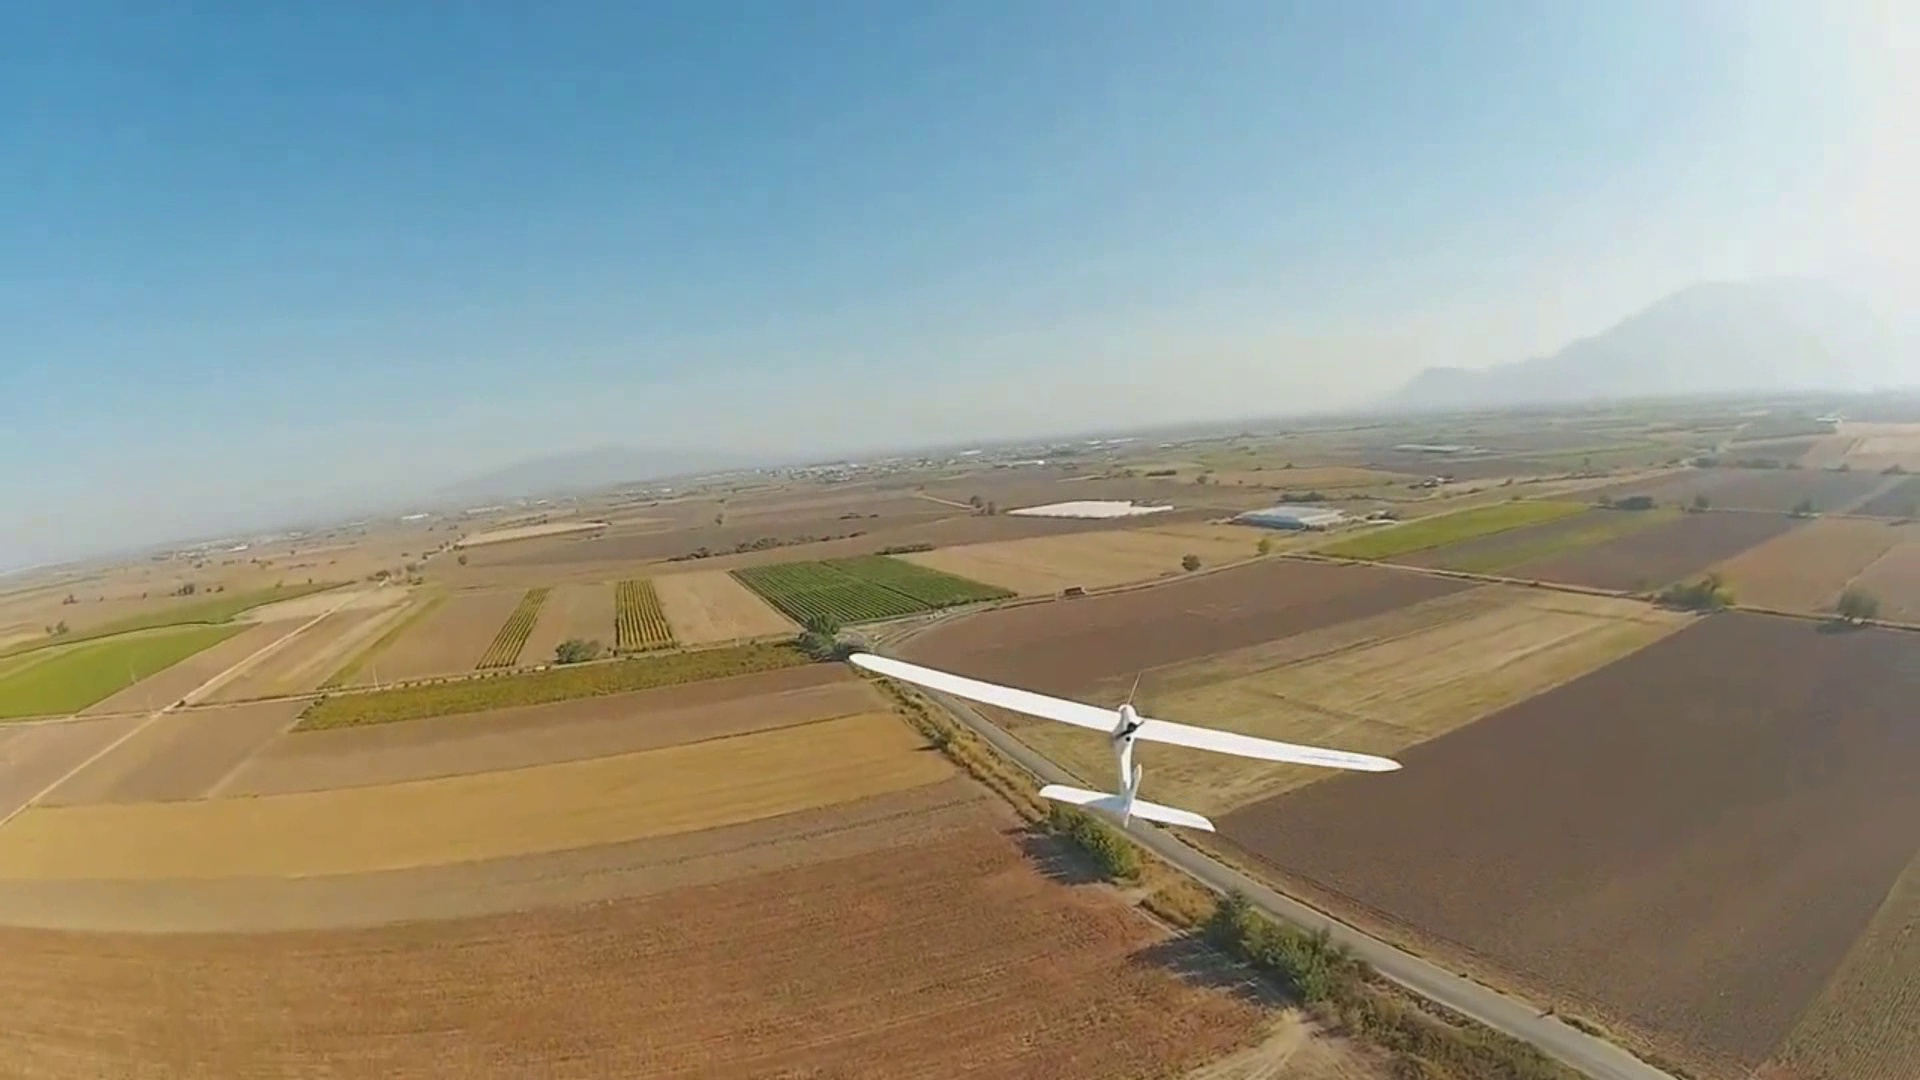airplane: (847, 488, 1917, 1071)
